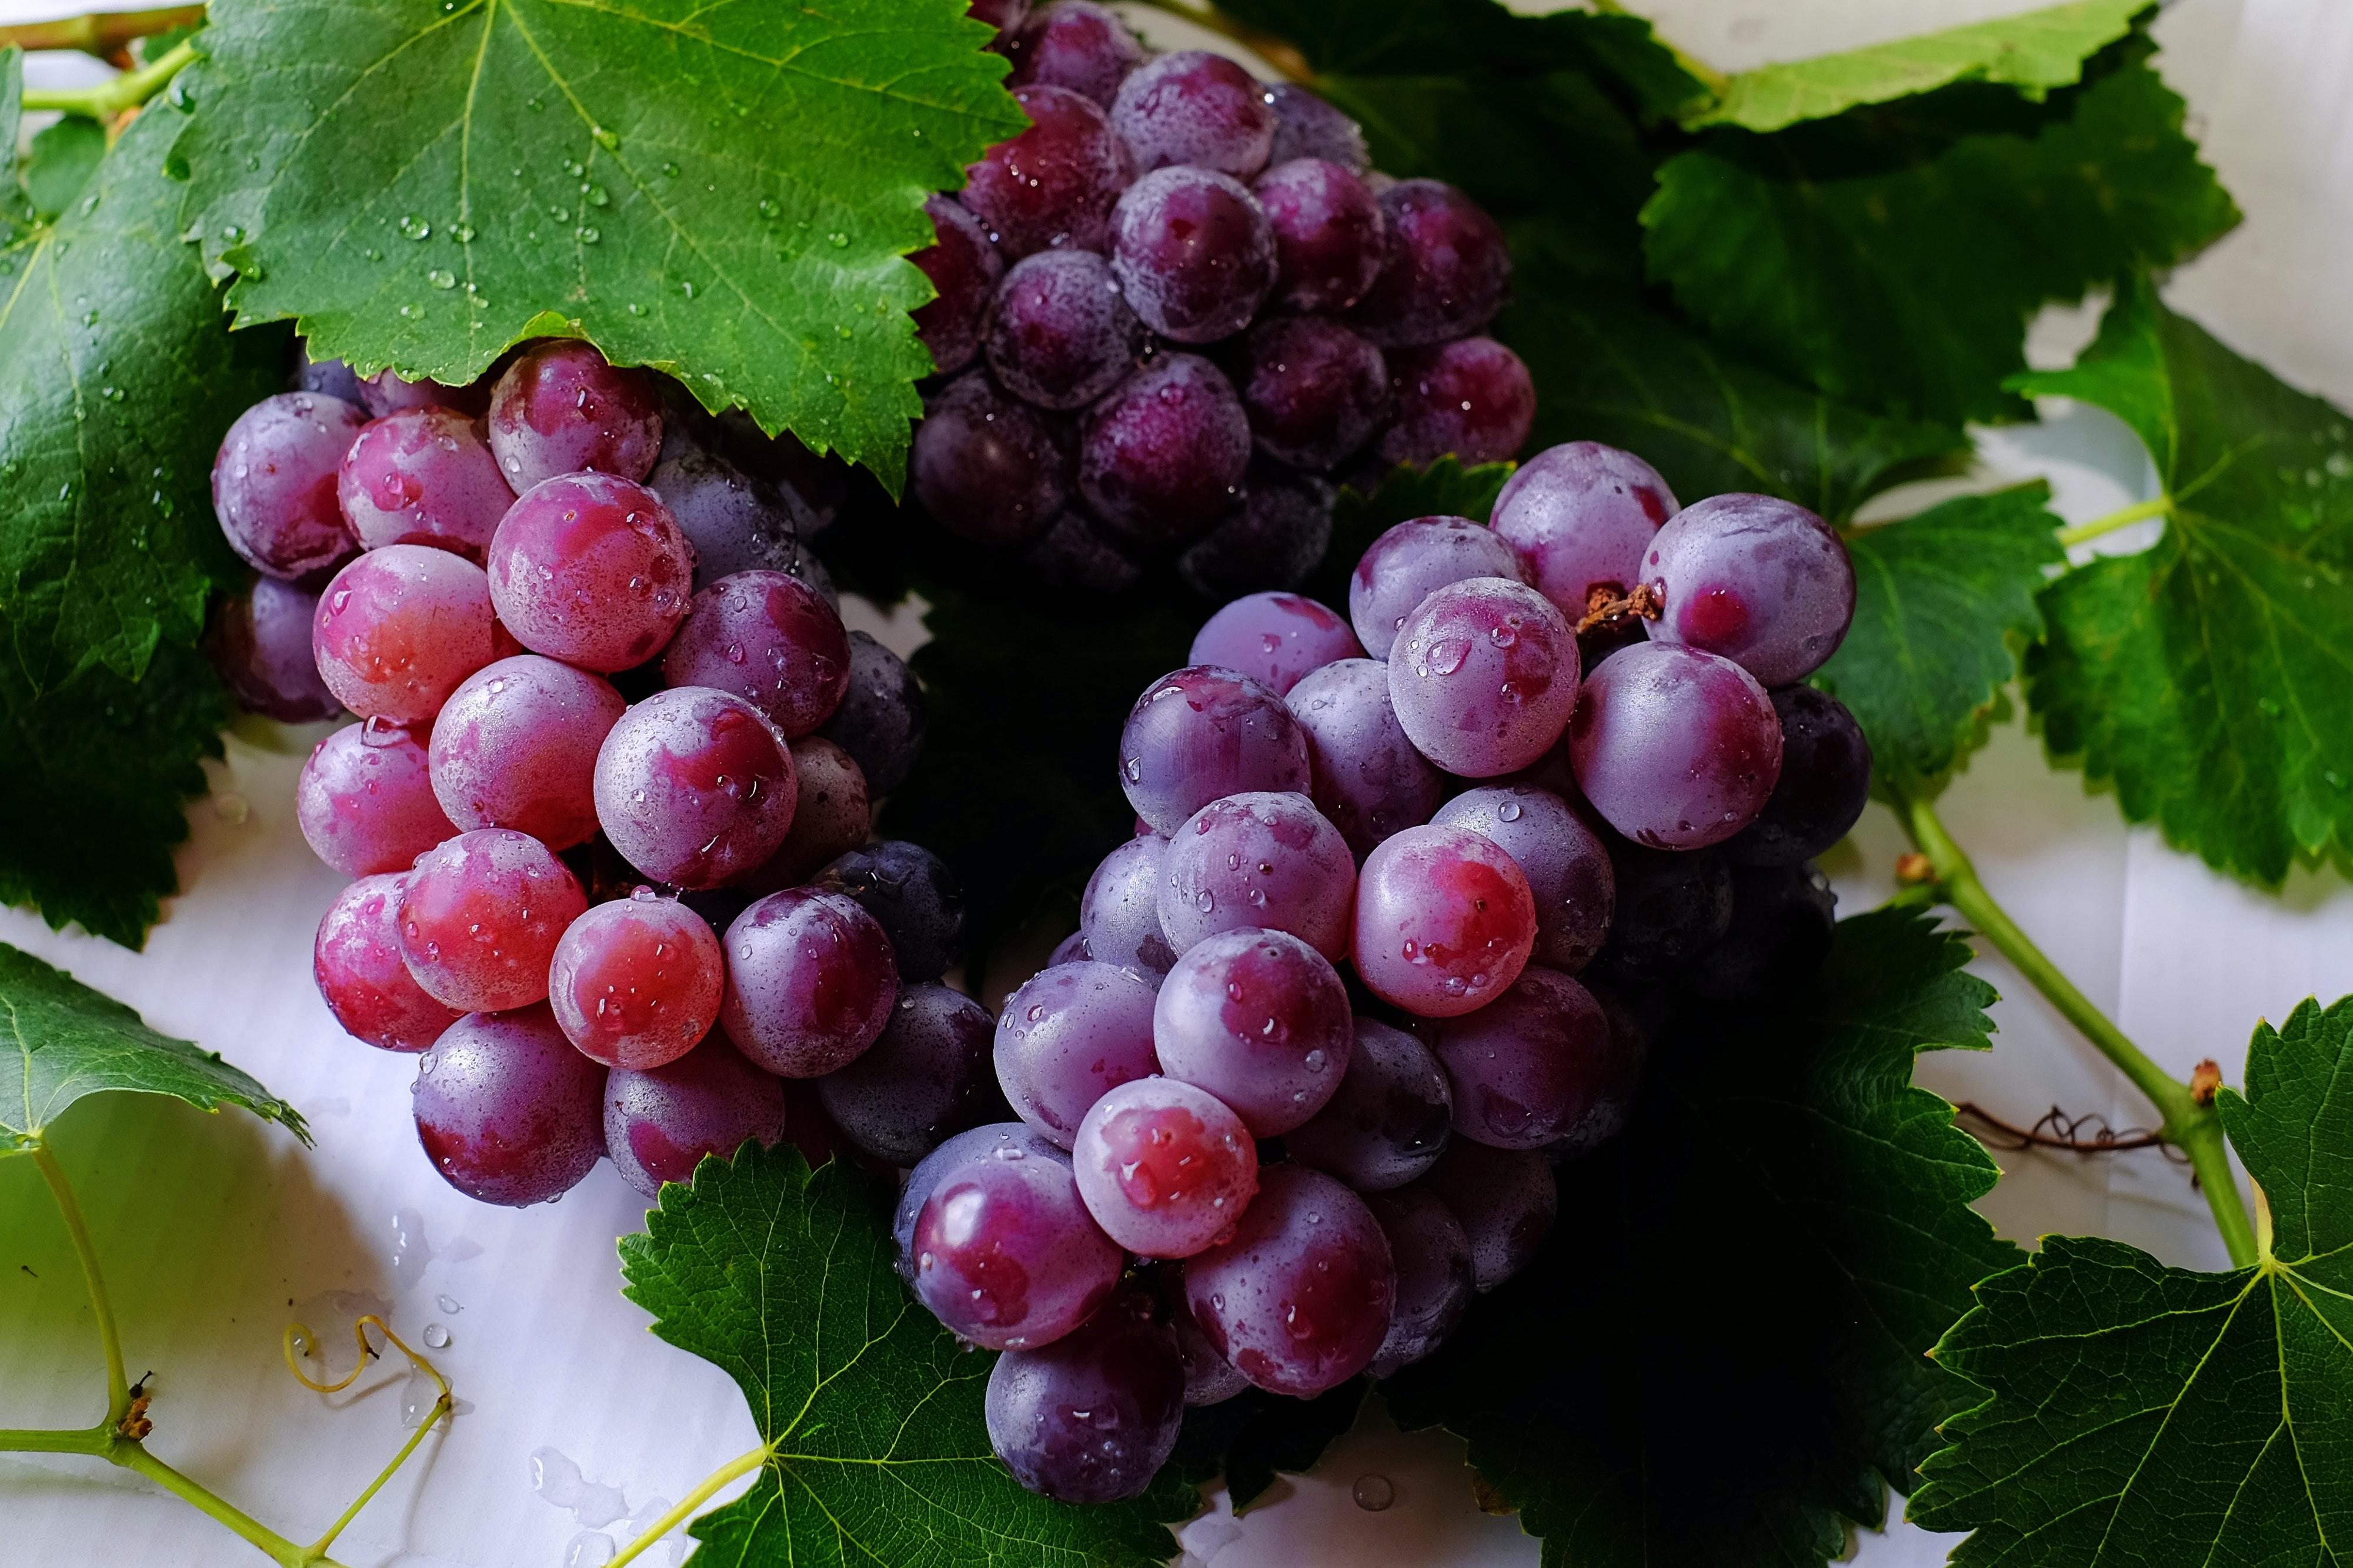grape: (900, 446, 1915, 1568), (242, 299, 889, 1228), (900, 9, 1523, 567)
